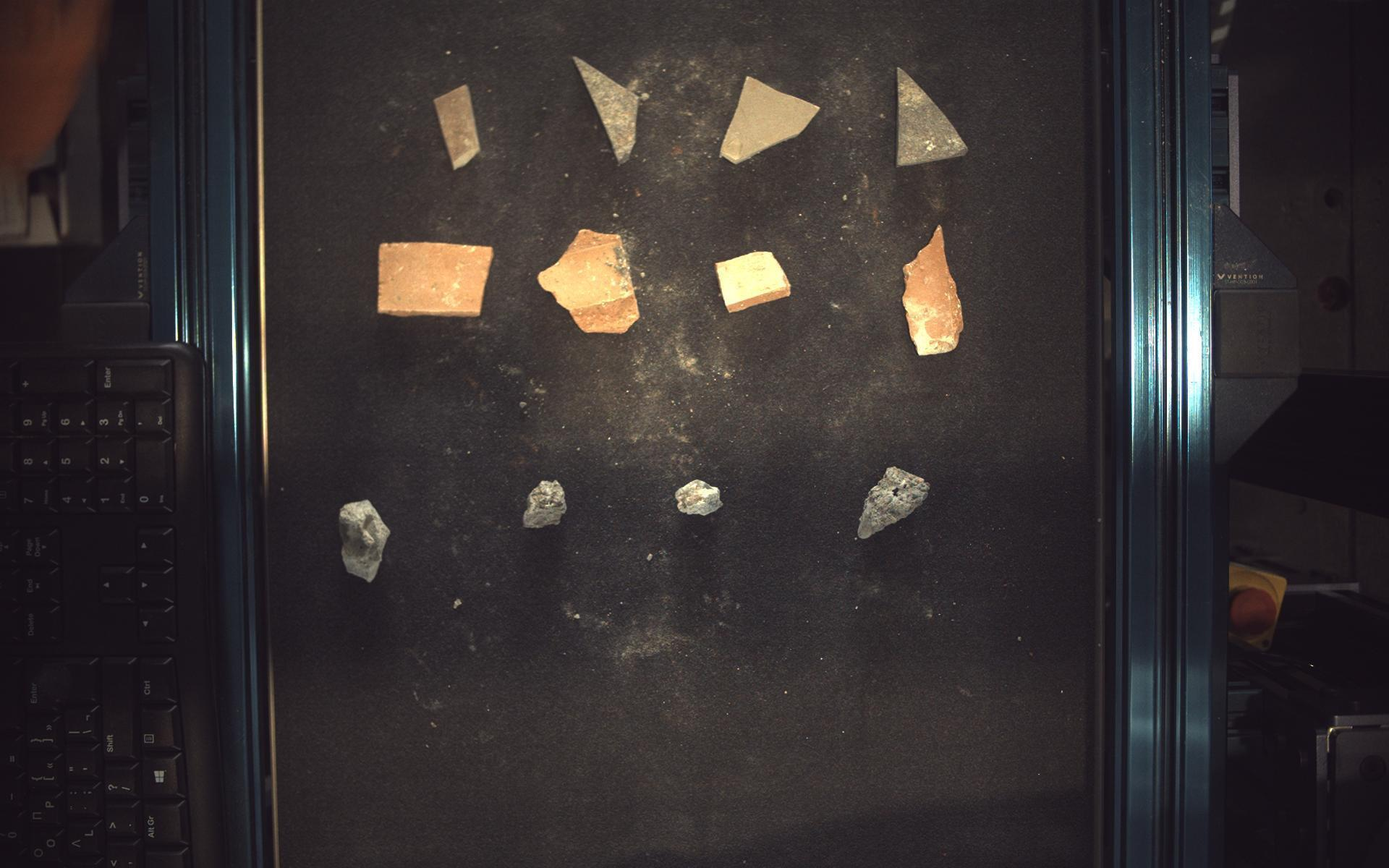brick: (538, 229, 640, 333), (379, 242, 493, 316), (904, 225, 966, 355), (717, 251, 791, 312)
concrete: (859, 467, 931, 540), (339, 501, 389, 582), (524, 481, 568, 529), (677, 480, 723, 516)
tile: (721, 76, 820, 163), (574, 55, 640, 163), (899, 66, 970, 165), (433, 83, 480, 169)
